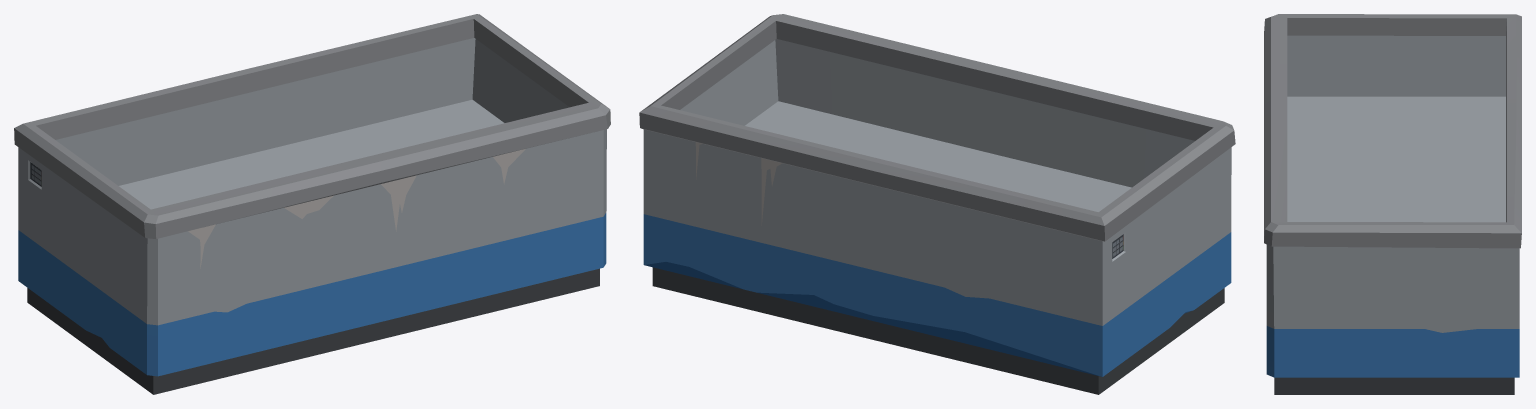
File: SM_Prop_Market_Freezer_01.obj
The picture shows the model from 3 angles, left to right: view 1: azimuth 30°, elevation 25°; view 2: azimuth 150°, elevation 25°; view 3: azimuth 270°, elevation 25°; orthographic projection. The views are drawn at different scales.
Visible parts, largest first — view 1: SM_Prop_Market_Freezer_01_0; view 2: SM_Prop_Market_Freezer_01_0; view 3: SM_Prop_Market_Freezer_01_0.
Part boxes in pixels (x1,y1,x2,y2): SM_Prop_Market_Freezer_01_0: (14,14,610,394); SM_Prop_Market_Freezer_01_0: (639,14,1235,394); SM_Prop_Market_Freezer_01_0: (1264,14,1521,394).
Size of the model in its own units: 2.89 by 1.07 by 1.45.
1 material, 1 textured.
